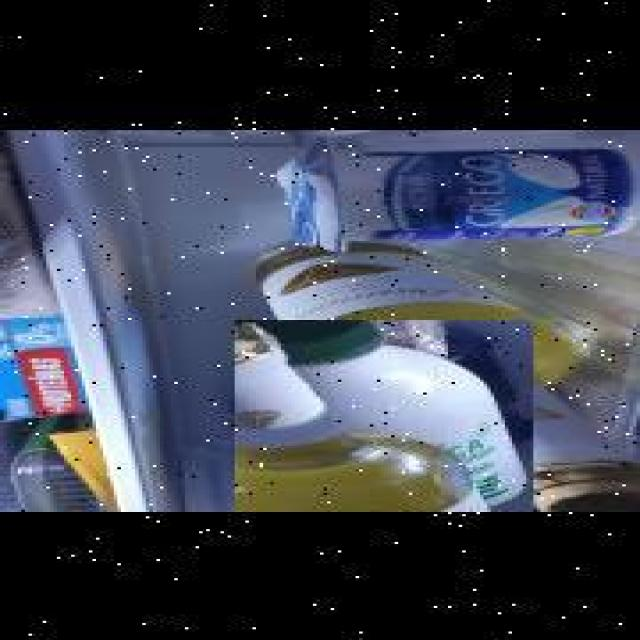bread: (0, 128, 135, 329)
milk: (235, 320, 533, 512)
yogurt: (270, 130, 640, 250)
